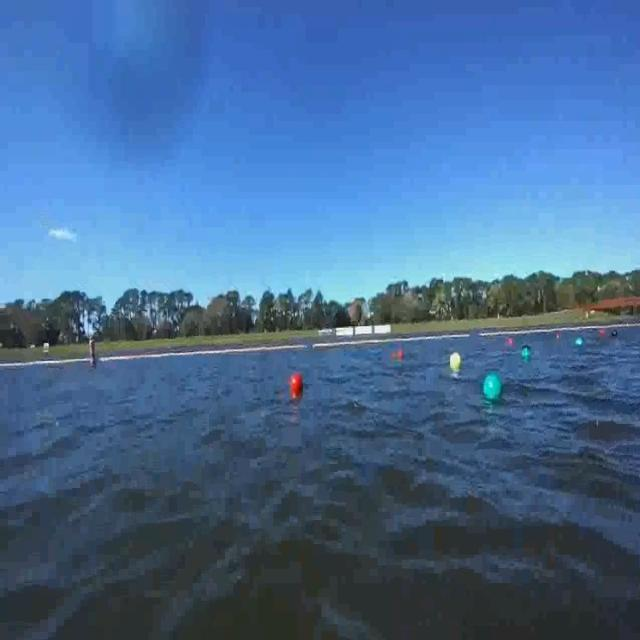green-buoy: (484, 371, 504, 399), (522, 348, 531, 362), (576, 337, 584, 347)
red-buoy: (291, 373, 302, 391)
yellow-buoy: (448, 352, 460, 370)
